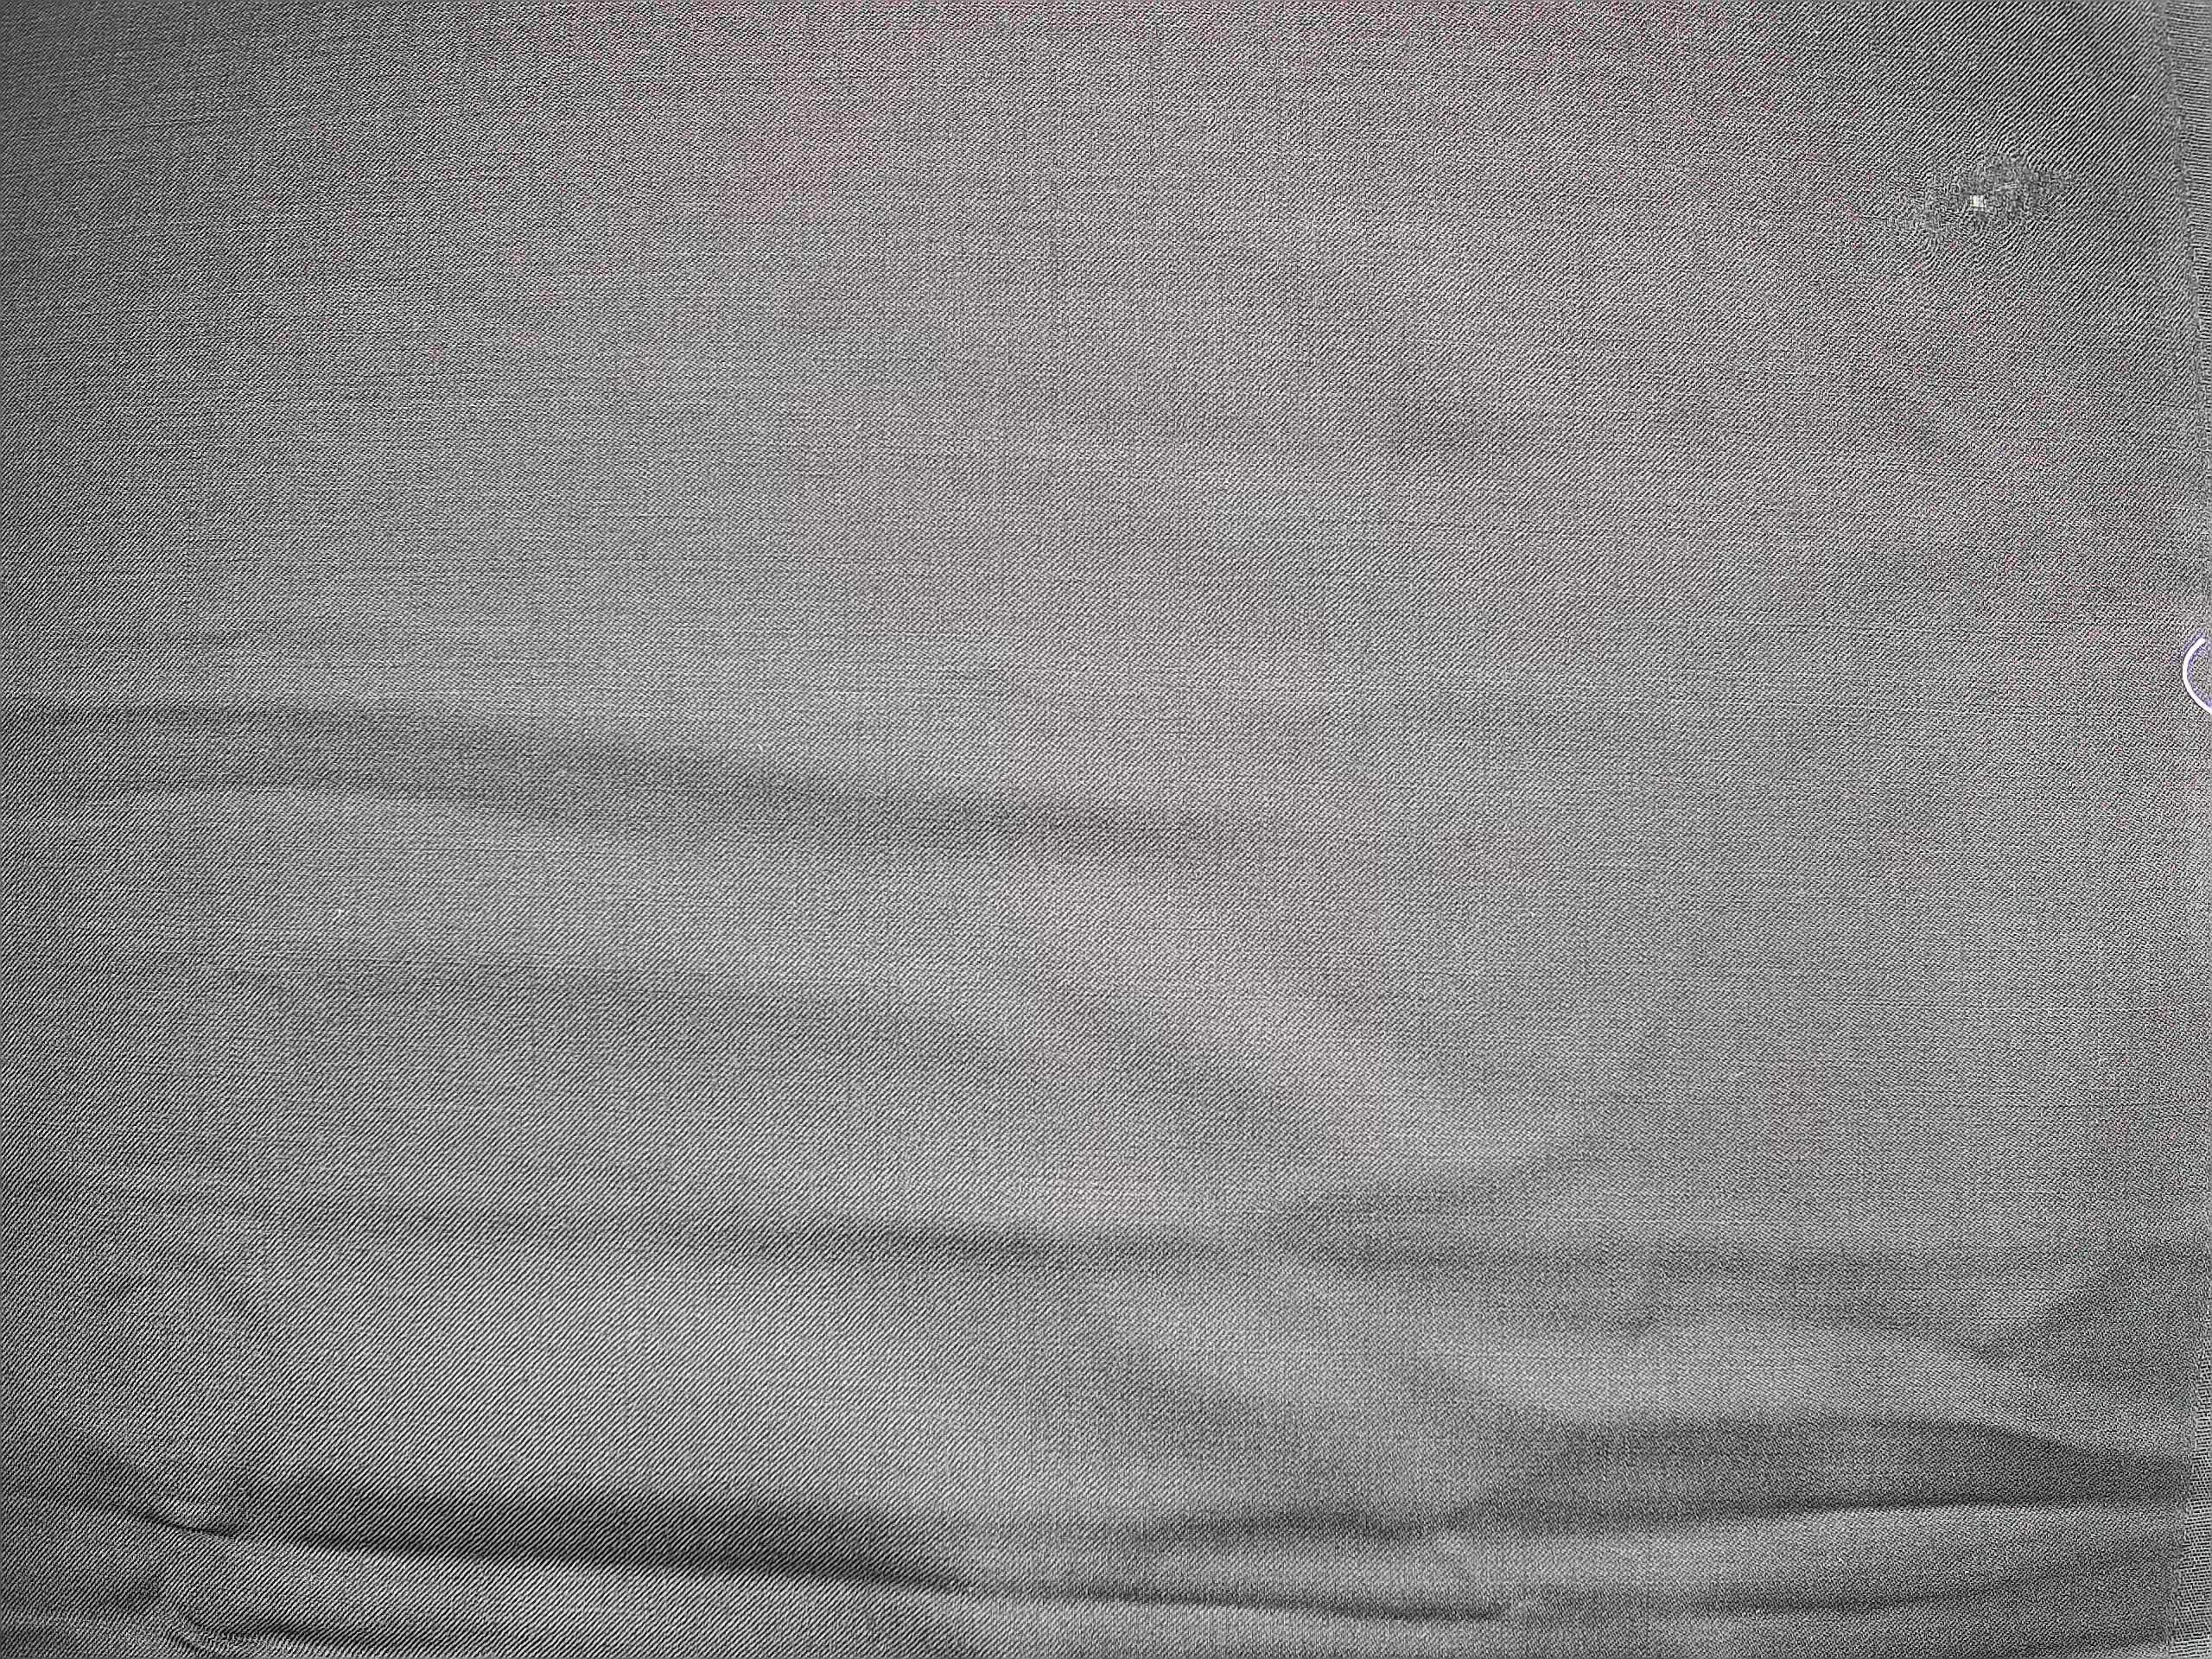brushed-hole: (1919, 129, 2076, 251)
